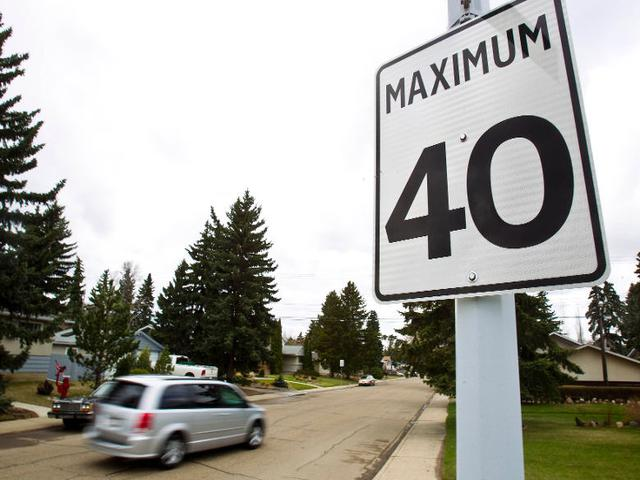vitesse: (371, 3, 613, 301)
